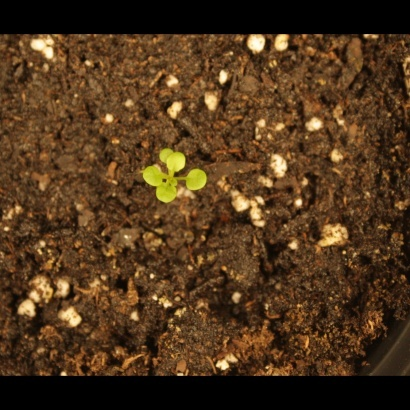leaf: (186, 167, 212, 195), (167, 151, 190, 179), (156, 182, 182, 205), (157, 142, 180, 165), (141, 166, 164, 189)
